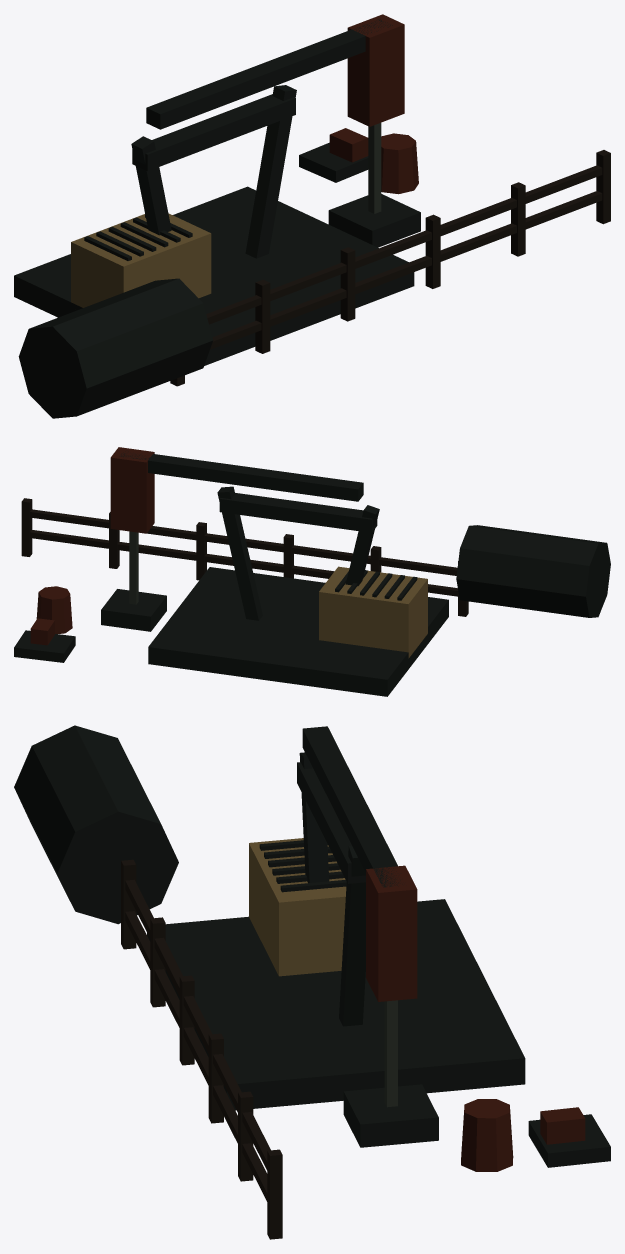
The model's file is landmark_pumpjack.obj.
The picture shows the model from 3 angles, top to bottom: view 1: azimuth 30°, elevation 25°; view 2: azimuth 150°, elevation 25°; view 3: azimuth 270°, elevation 25°; orthographic projection. The views are drawn at different scales.
Visible parts, largest first — view 1: ironStructure_0002, tankInstances_000, MilitaryStructure2, iron_box, enemyRed_box, metalStructure_0002, ironStructure_0022, barrelInstances_000, ironStructure_0012, iron_box2, enemyRed_box2, fencePosts_001 (+14 smaller); view 2: ironStructure_0002, tankInstances_000, MilitaryStructure2, iron_box, enemyRed_box, metalStructure_0002, ironStructure_0022, barrelInstances_000, iron_box2, ironStructure_0012, fenceRails_008, fenceRails_009 (+12 smaller); view 3: ironStructure_0002, tankInstances_000, MilitaryStructure2, enemyRed_box, iron_box, ironStructure_0022, barrelInstances_000, metalStructure_0002, iron_box2, ironStructure_0012, enemyRed_box2, fencePosts_005 (+6 smaller).
Part boxes in pixels (x1,y1,x2,y2): ironStructure_0002: (14, 186, 414, 365); tankInstances_000: (18, 278, 213, 418); MilitaryStructure2: (71, 123, 420, 307); iron_box: (146, 19, 392, 129); enemyRed_box: (347, 14, 404, 126); metalStructure_0002: (132, 94, 295, 171); ironStructure_0022: (245, 85, 296, 258); barrelInstances_000: (381, 133, 418, 194); ironStructure_0012: (131, 136, 171, 235); iron_box2: (299, 142, 368, 182); enemyRed_box2: (329, 128, 368, 162); fencePosts_001: (255, 279, 270, 353); ironStructure_0002: (148, 567, 448, 696); tankInstances_000: (456, 525, 610, 617); MilitaryStructure2: (101, 531, 427, 658); iron_box: (119, 451, 363, 501); enemyRed_box: (110, 447, 154, 533); metalStructure_0002: (219, 493, 377, 532); ironStructure_0022: (217, 486, 262, 620); barrelInstances_000: (36, 586, 72, 633); iron_box2: (14, 630, 75, 662); ironStructure_0012: (345, 505, 379, 585); fenceRails_008: (30, 530, 108, 548); fenceRails_009: (30, 509, 108, 528); ironStructure_0002: (147, 899, 525, 1110); tankInstances_000: (14, 725, 178, 924); MilitaryStructure2: (249, 838, 438, 1147); enemyRed_box: (366, 865, 417, 1001); iron_box: (302, 726, 402, 887); ironStructure_0022: (339, 846, 365, 1026); barrelInstances_000: (461, 1099, 513, 1171); metalStructure_0002: (297, 762, 365, 883); iron_box2: (528, 1114, 610, 1167); ironStructure_0012: (299, 752, 329, 882); enemyRed_box2: (540, 1107, 585, 1144); fencePosts_005: (267, 1149, 282, 1239).
Size of the model in its own units: 11.4 by 3.44 by 7.44.
